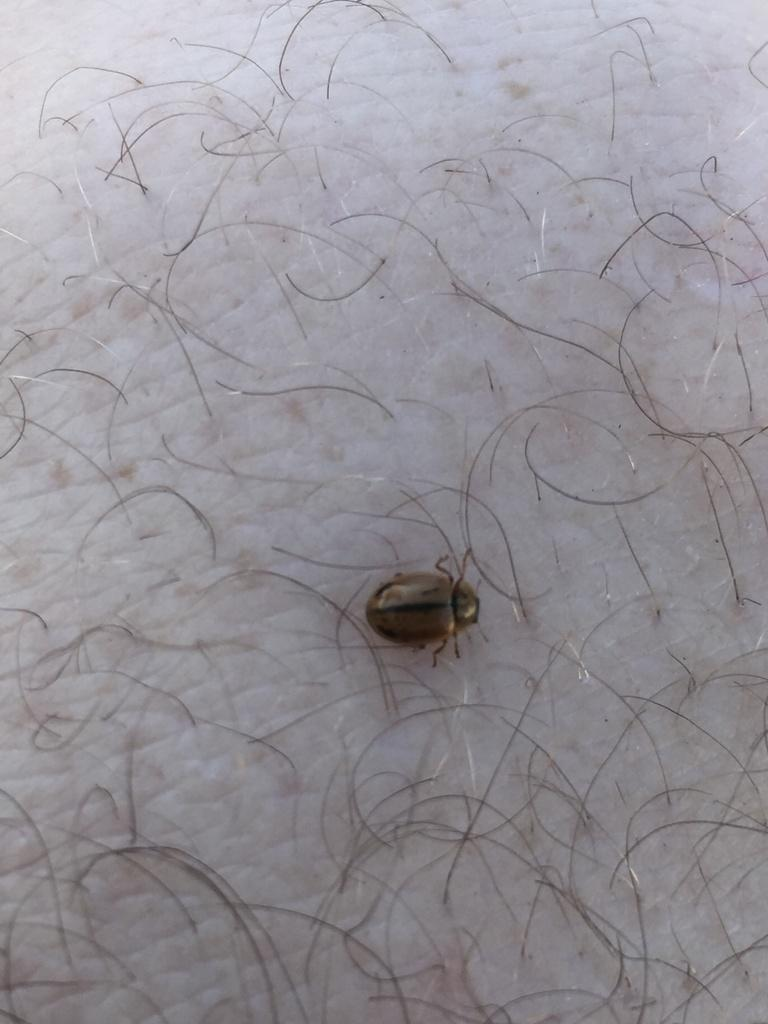ladybug: (365, 545, 493, 670)
